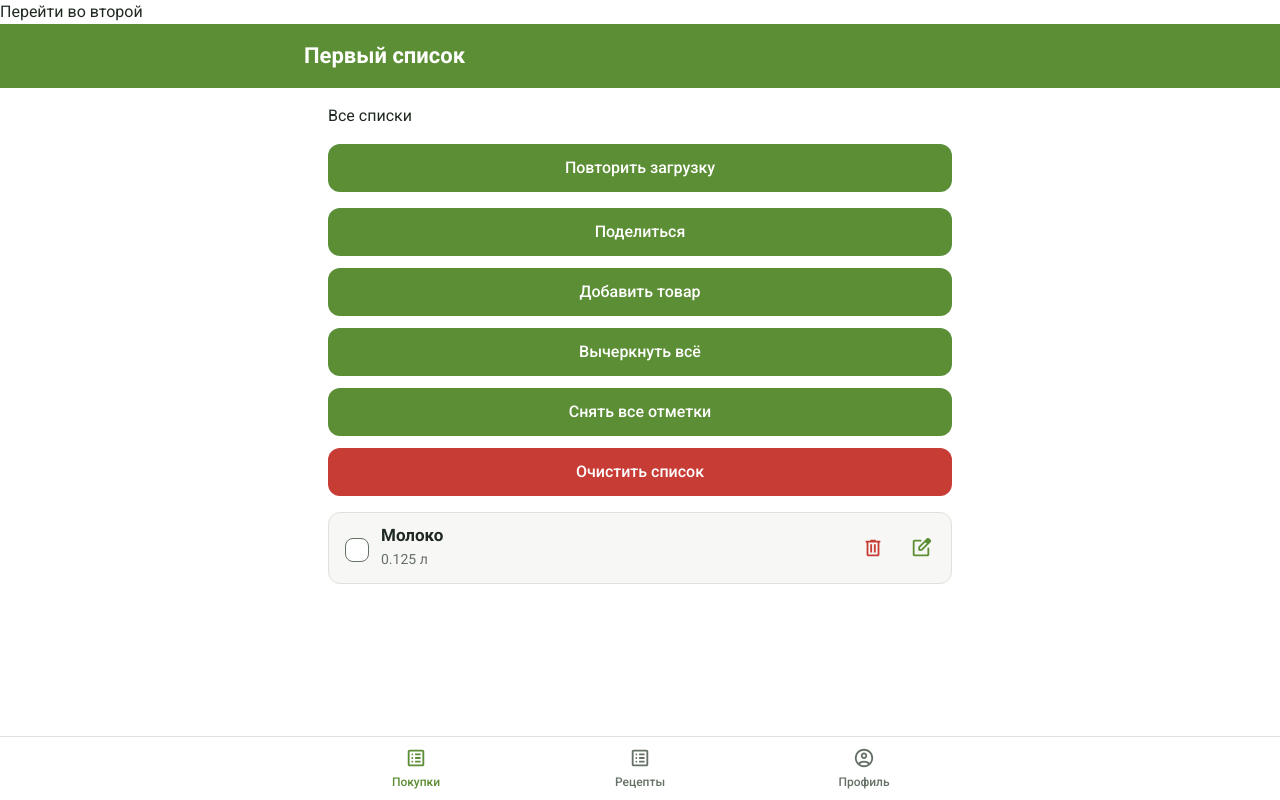
Страницы нескольких списков › ошибки редактирования, удаления позиции и массовых отметок сохраняют данные
Expected: the heading "Молоко" is shown, [381,526,443,545]
Click the button named "Редактировать Молоко". click: point(921, 548)
box: [899,526,943,570]
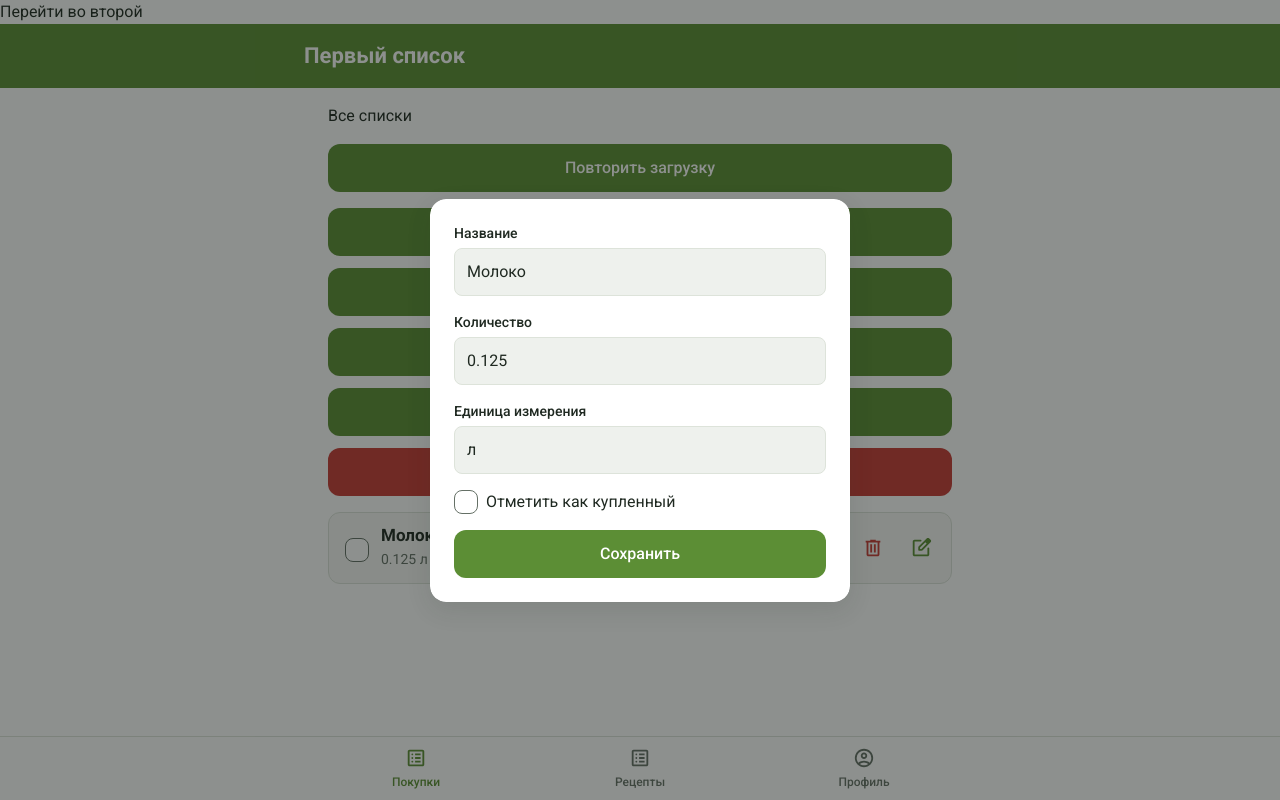
Replace the text in the field labelled "Название" with "Кефир". click: point(640, 272)
box: [454,248,826,296]
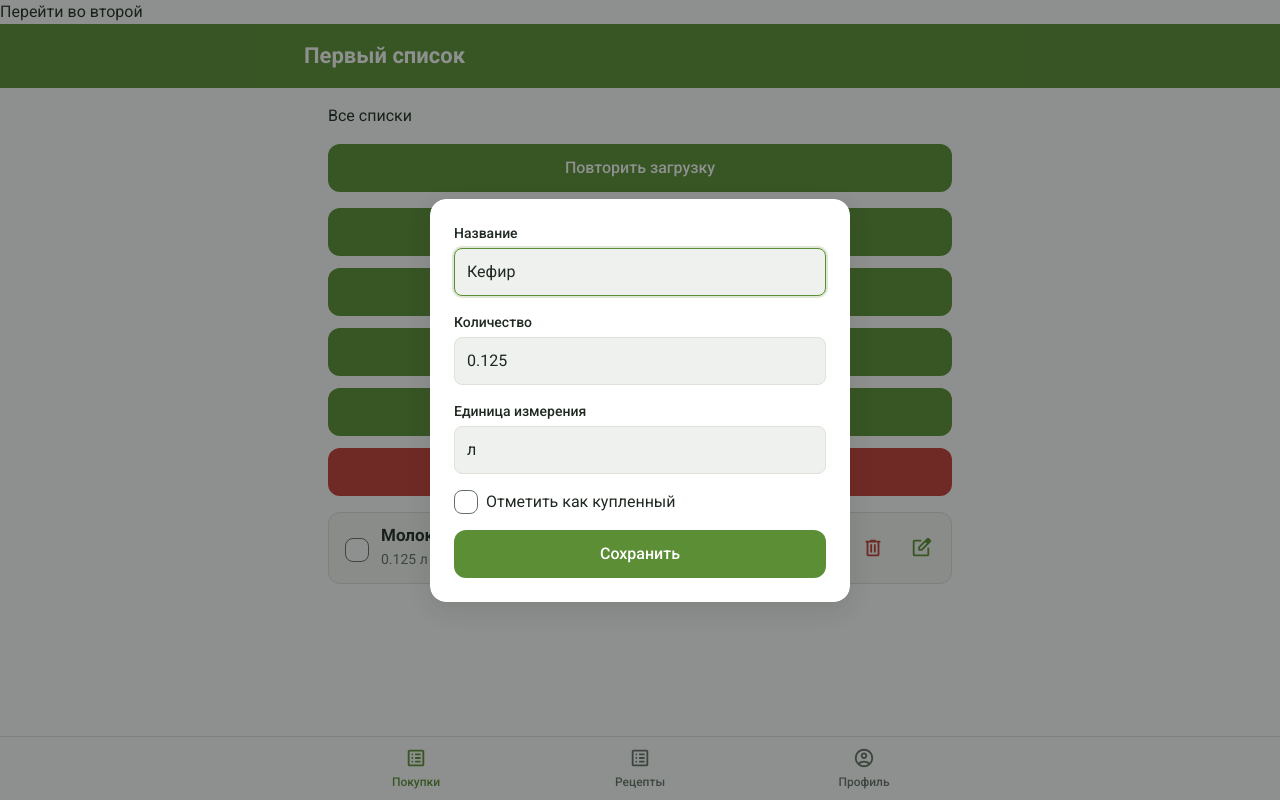
Click the button "Сохранить". click: point(640, 554)
box: [454,530,826,578]
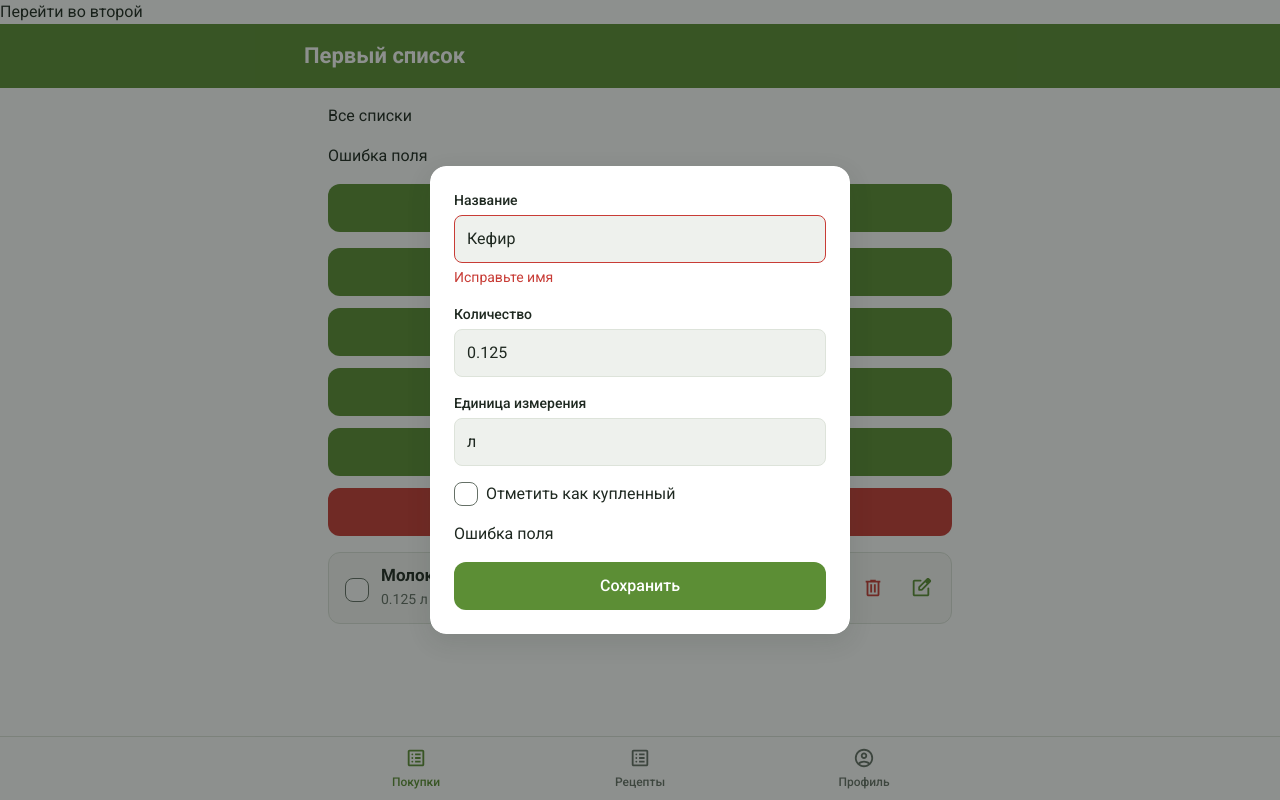
Expected: the heading "Молоко" is shown, [381,566,443,585]
Now the field labelled "Название" is enabled, box [454,215,826,263]
Now the text "Исправьте имя" is shown, box [454,269,553,285]
Press Escape
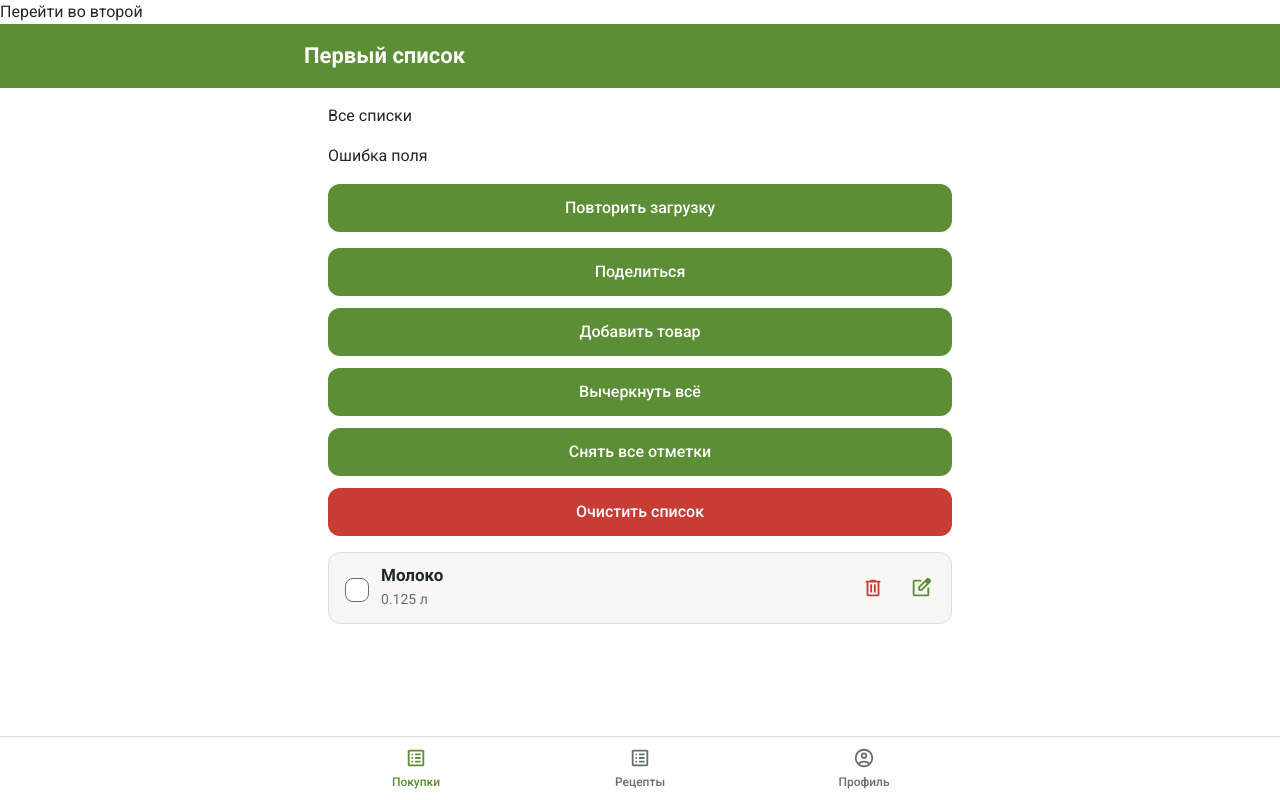
Click the button named "Удалить Молоко". click: point(873, 588)
box: [851,566,895,610]
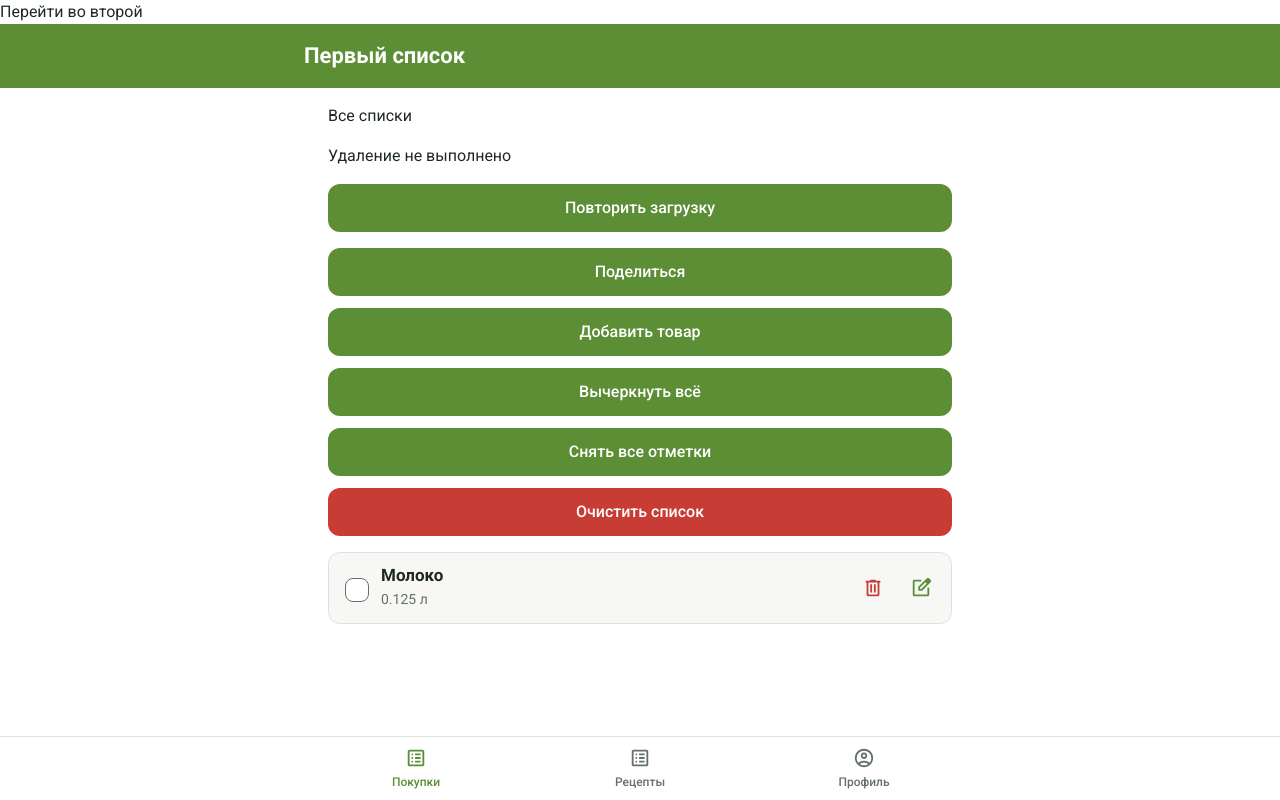
Now the message reads "Удаление не выполнено", box [328,146,511,165]
Click the button "Вычеркнуть всё". click: point(640, 392)
box: [328,368,952,416]
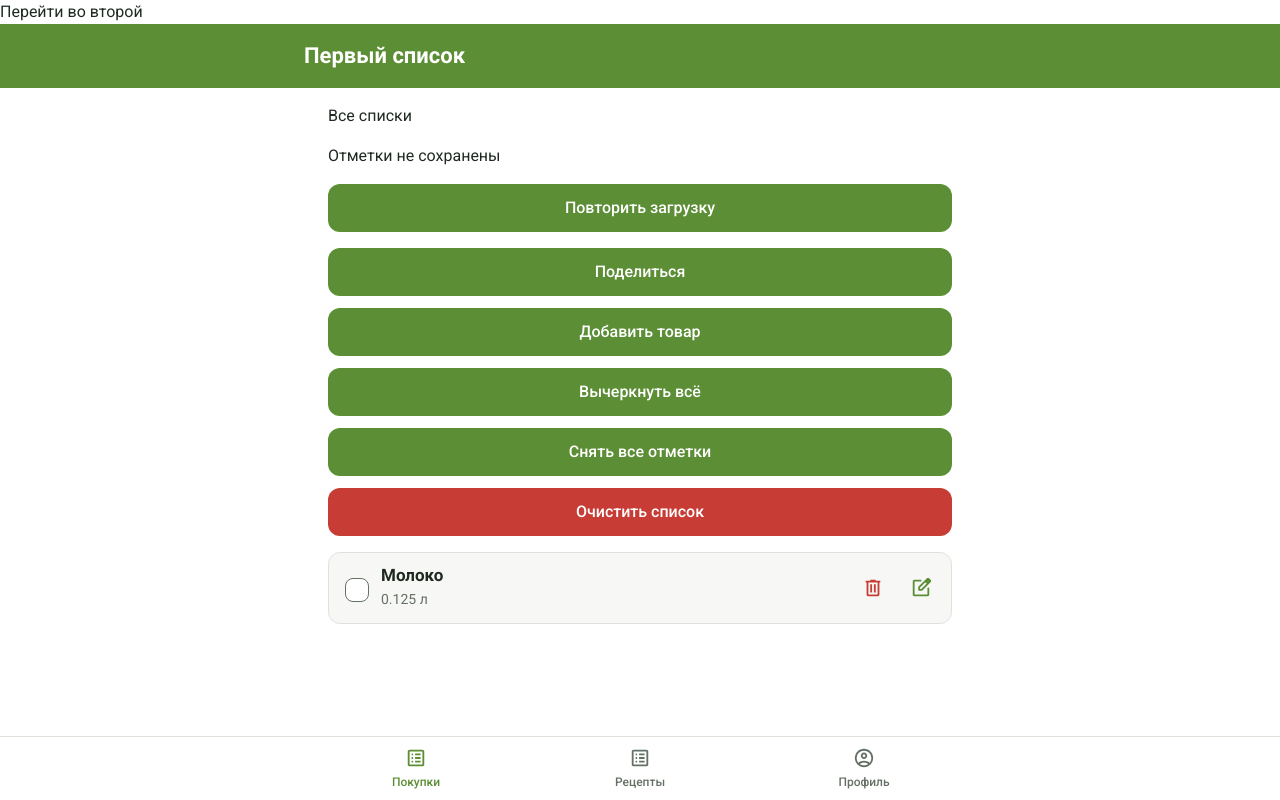
Expected: the checkbox named "Куплено: Молоко" is not checked, [345,574,369,602]
Now the message reads "Отметки не сохранены", box [328,146,500,165]
